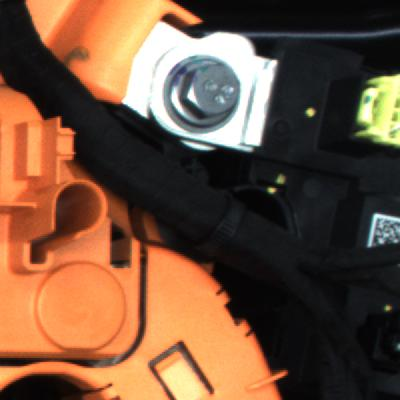nut_b: (158, 49, 259, 135)
